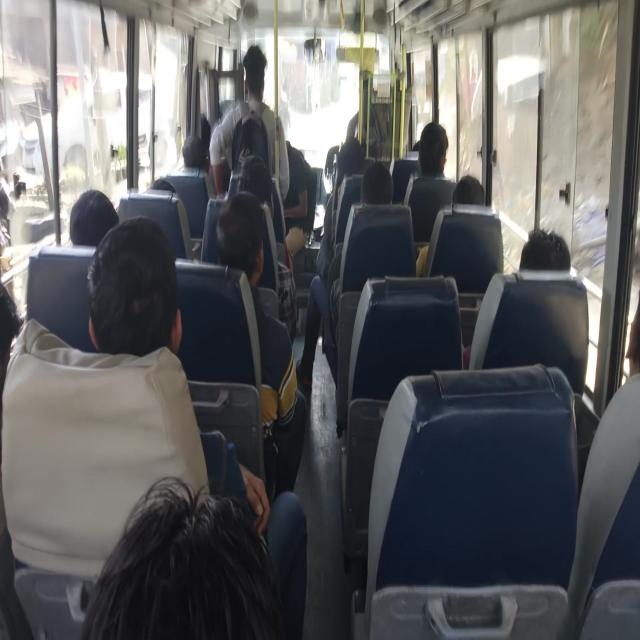person: (96, 480, 271, 640), (85, 244, 187, 389), (272, 131, 308, 243), (218, 198, 268, 278), (0, 270, 39, 366), (417, 126, 464, 201), (509, 234, 571, 286), (72, 199, 116, 255), (241, 54, 278, 108), (363, 169, 402, 213), (325, 168, 351, 225), (234, 162, 268, 204), (181, 136, 209, 180), (454, 177, 485, 215), (623, 301, 640, 370), (340, 136, 363, 182), (149, 175, 176, 206), (194, 110, 216, 146), (236, 143, 266, 169), (413, 137, 427, 155)
